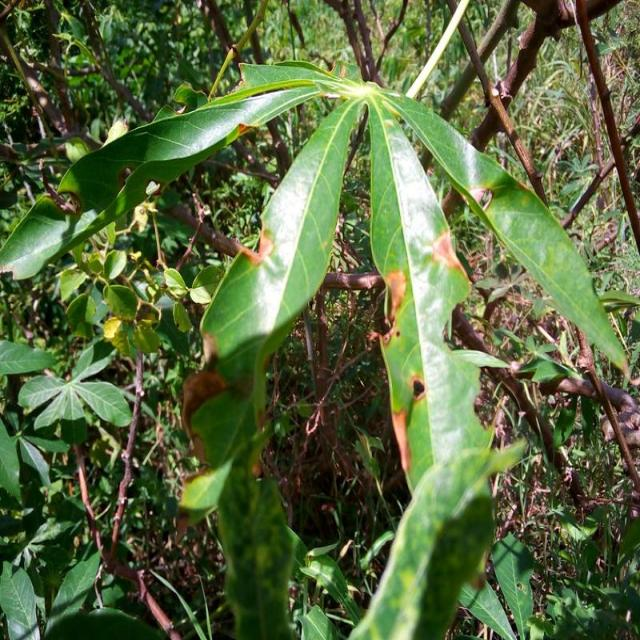cassava leaf: (364, 89, 494, 496), (198, 91, 364, 382)
